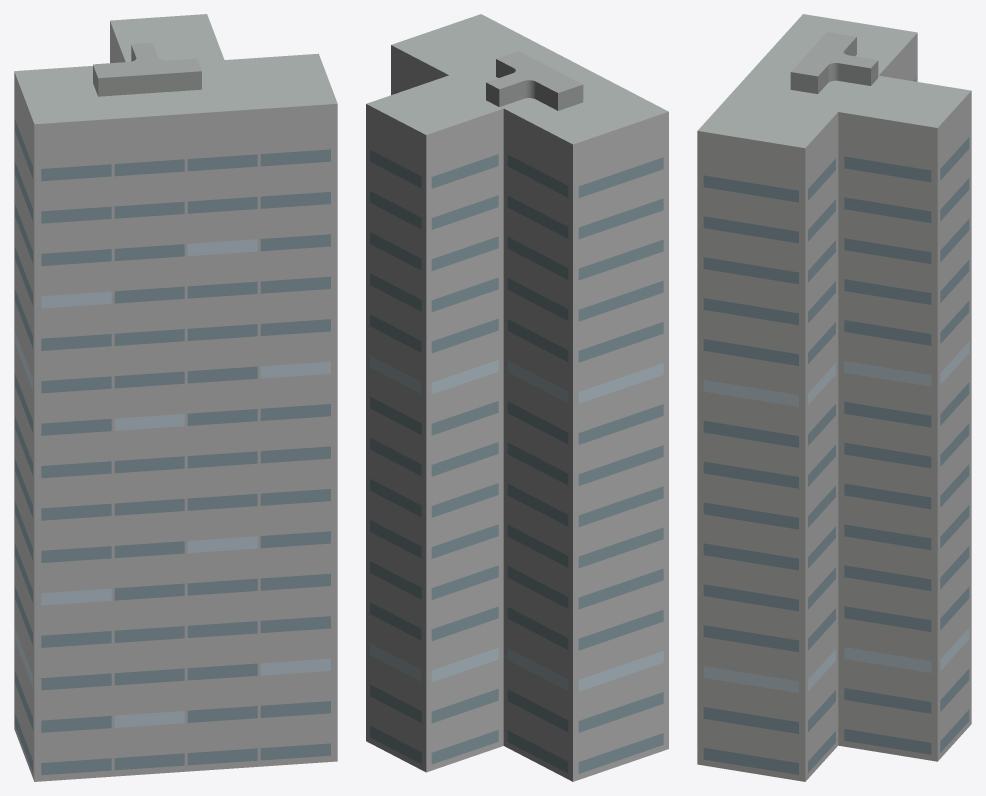
Rendered from fallback-prestige-114.glb.
3 views of the same model, side by side, from view 1: azimuth 30°, elevation 25°; view 2: azimuth 150°, elevation 25°; view 3: azimuth 270°, elevation 25° (orthographic). The views are drawn at different scales.
Parts seen in each view (by area): view 1: fallback-prestige-114; view 2: fallback-prestige-114; view 3: fallback-prestige-114.
Part boxes in pixels (<box>): fallback-prestige-114: <box>14,14,337,781</box>; fallback-prestige-114: <box>366,14,668,781</box>; fallback-prestige-114: <box>697,14,971,781</box>.
Bounding box in the file's own units: 38.9 × 88 × 33.55.
